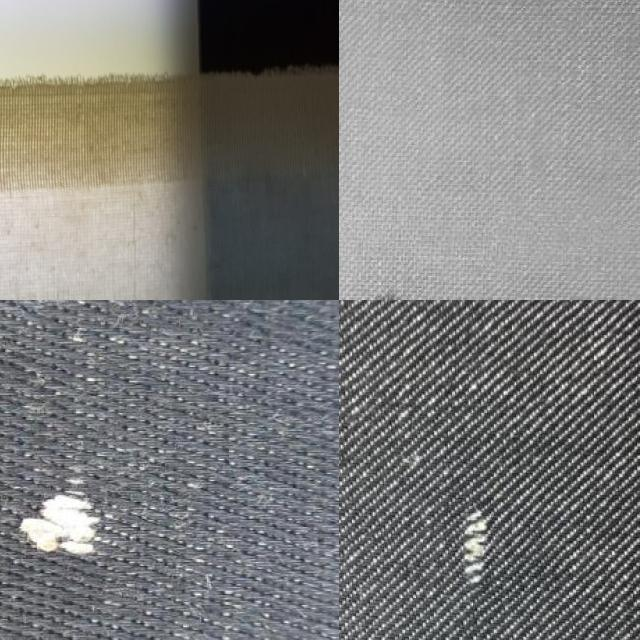Thread_other: (355, 267, 421, 300)
stains: (0, 445, 168, 640), (410, 460, 558, 640)
